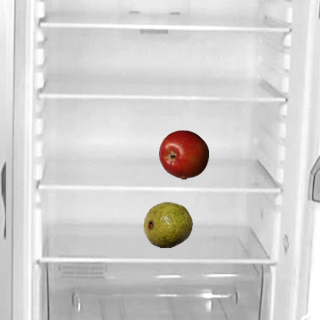Apple Braeburn: (158, 129, 208, 179)
Guava: (142, 199, 192, 249)
